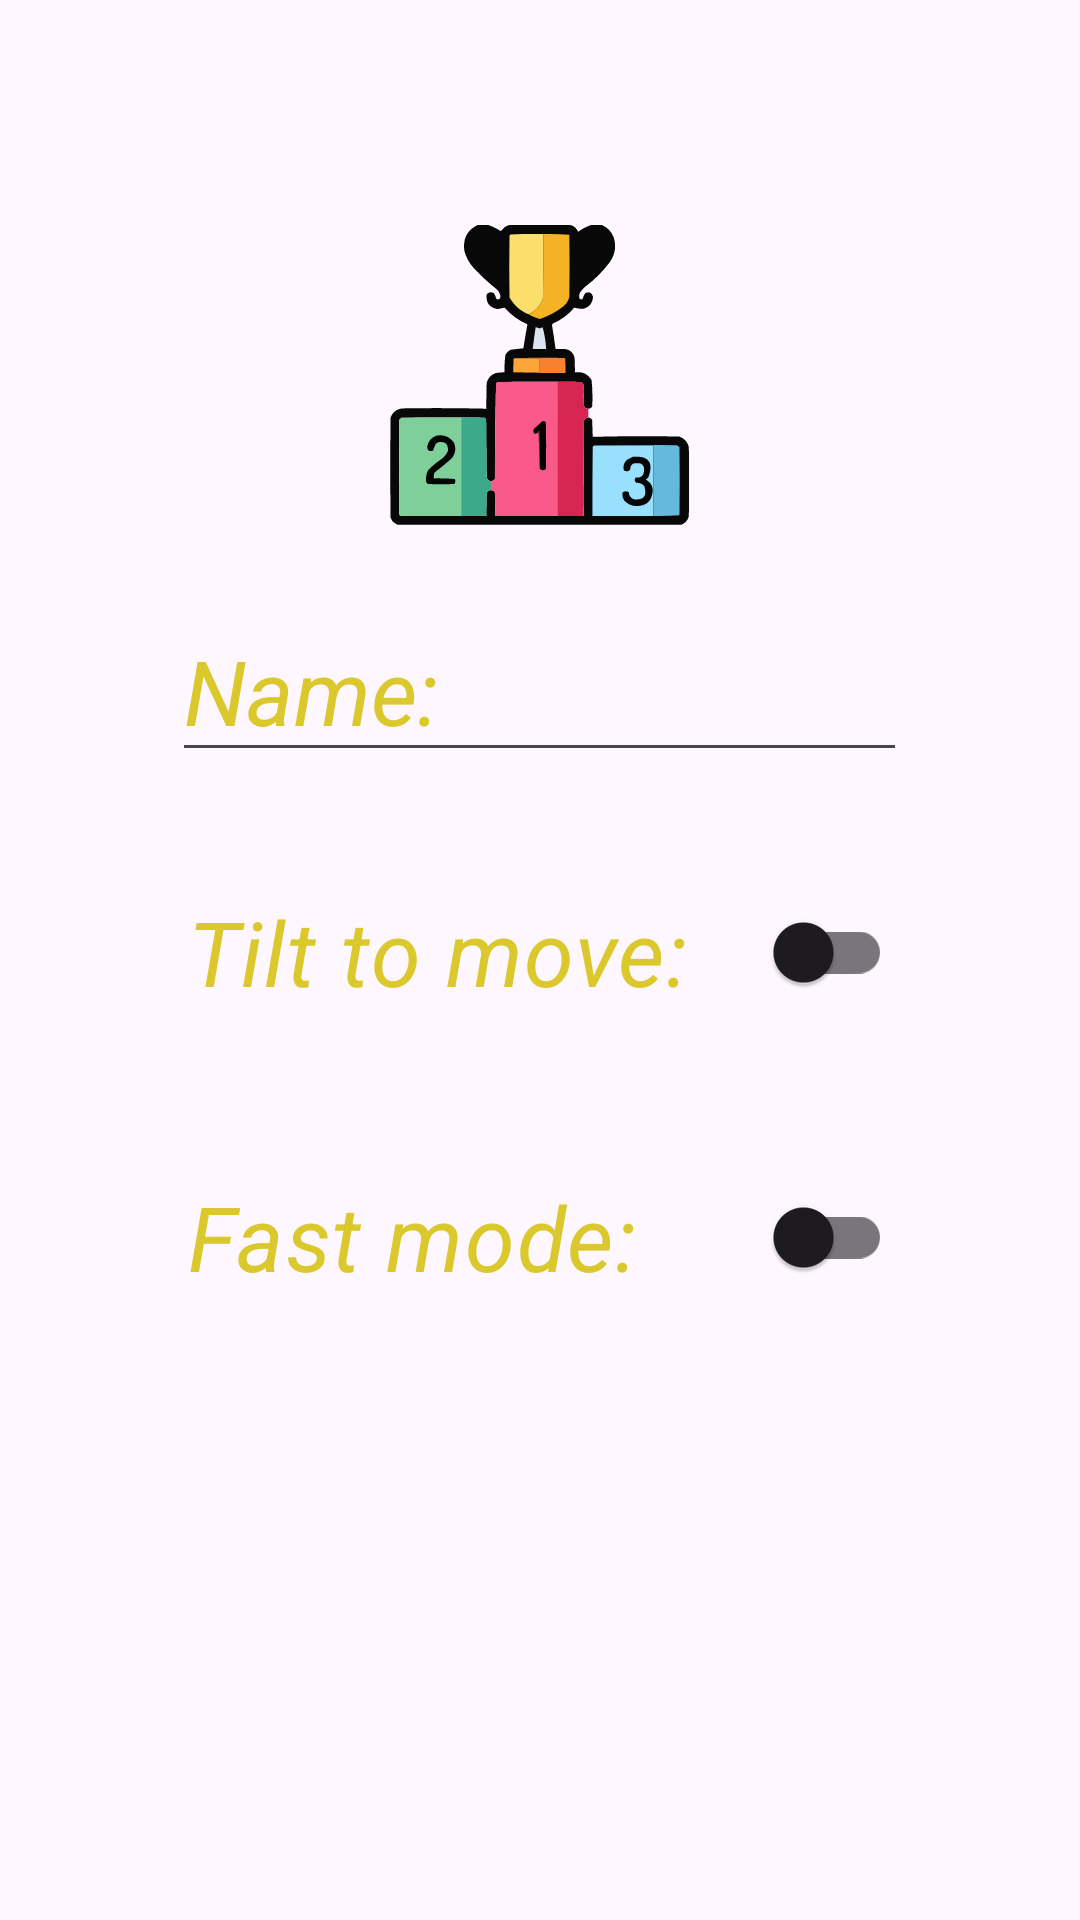

Locate icon controls on the screen. Image size 1080x1920, boxes as box=[x1, y1, x2, y2].
leaderboard: box=[390, 225, 689, 525]
